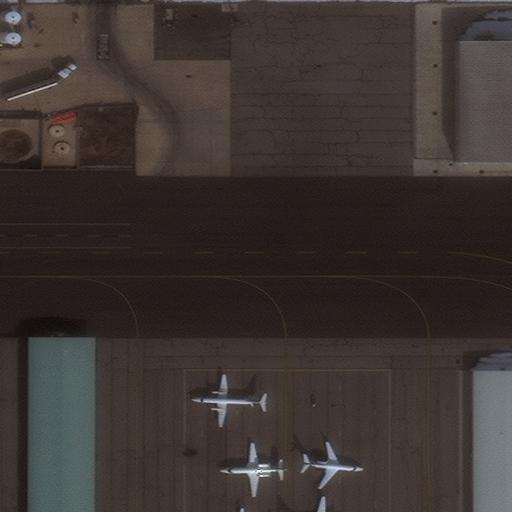Medium Civil Transport: (190, 373, 267, 427), (218, 442, 285, 496), (303, 440, 364, 488)
